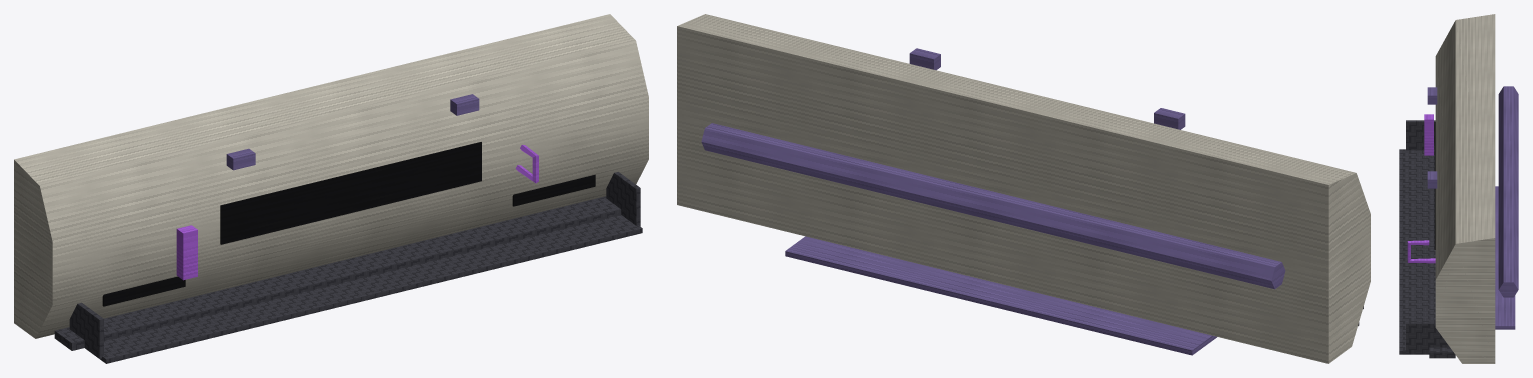
The model's file is para_choque_n5.glb.
3 renders of one model, left to right at view 1: azimuth 30°, elevation 25°; view 2: azimuth 150°, elevation 25°; view 3: azimuth 270°, elevation 25°, orthographic. The views are drawn at different scales.
Parts seen in each view (by area): view 1: para_choque_n5; view 2: para_choque_n5; view 3: para_choque_n5.
Part boxes in pixels (<box>): para_choque_n5: <box>14,14,648,363</box>; para_choque_n5: <box>677,14,1370,363</box>; para_choque_n5: <box>1399,14,1518,363</box>.
Bounding box in the file's own units: 1.6 × 0.446 × 0.36.
Materials: 3 (3 with a texture image).
